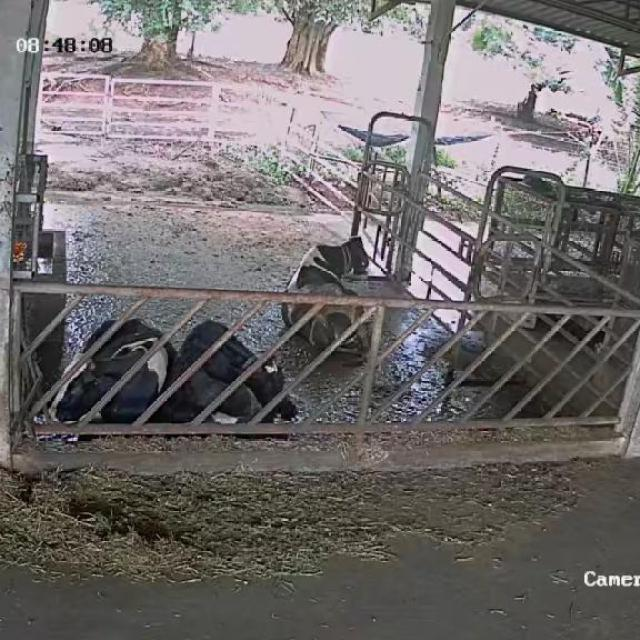lying down: (39, 311, 183, 433), (178, 322, 306, 423), (279, 233, 373, 357)
